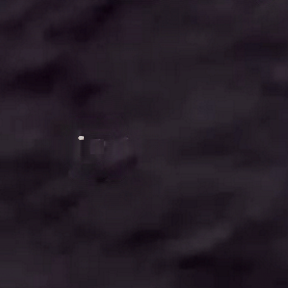Targetw: (77, 135, 86, 141)
